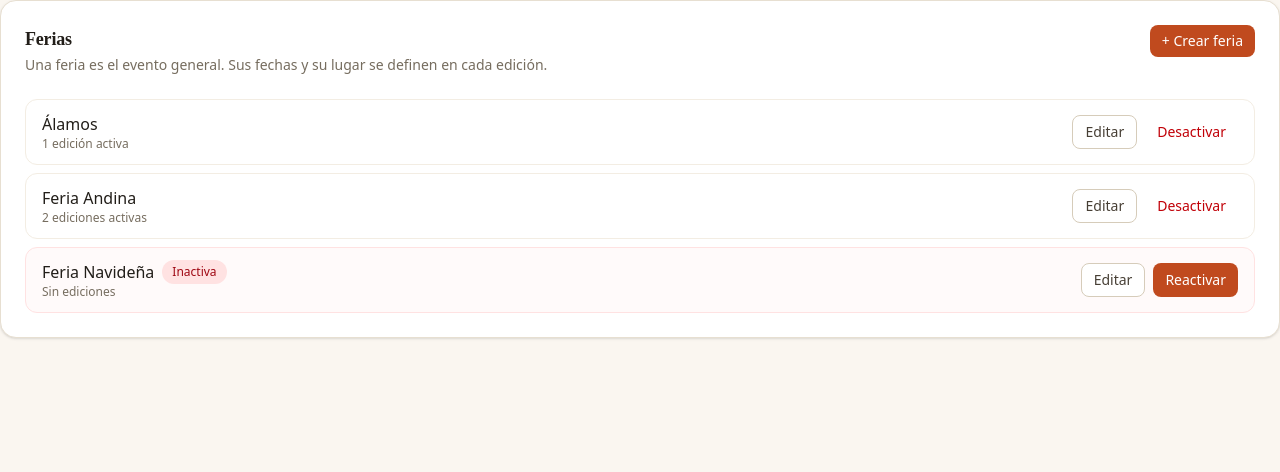
Test: GestionFerias: crear › el botón abre y cierra el formulario
Click the button "+ Crear feria" at (1202, 41), box [1150, 25, 1255, 57]
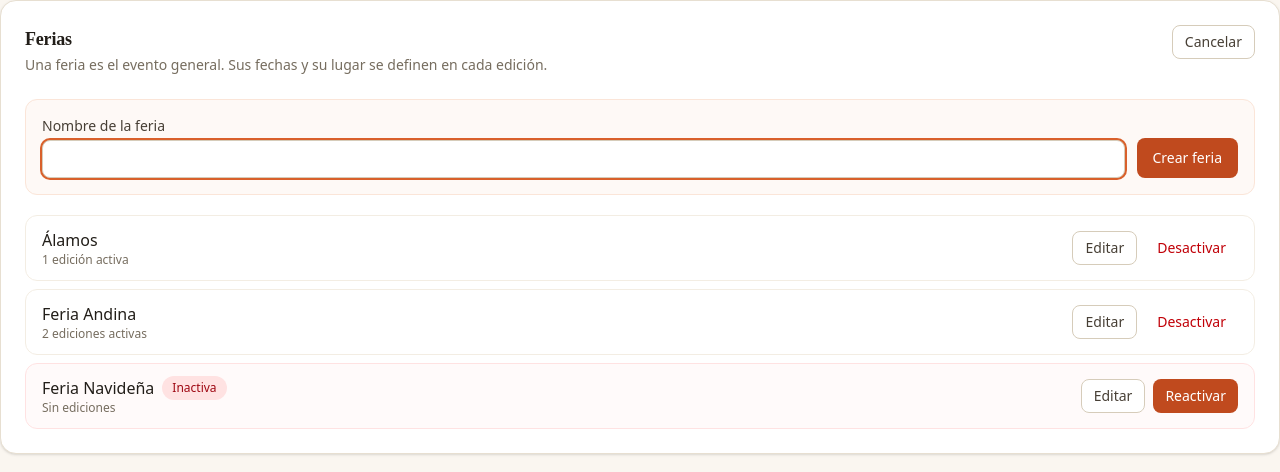
Expected: the field labelled "Nombre de la feria" is shown, [42, 140, 1124, 178]
Click the button "Cancelar" at (1213, 42), box [1172, 25, 1255, 59]
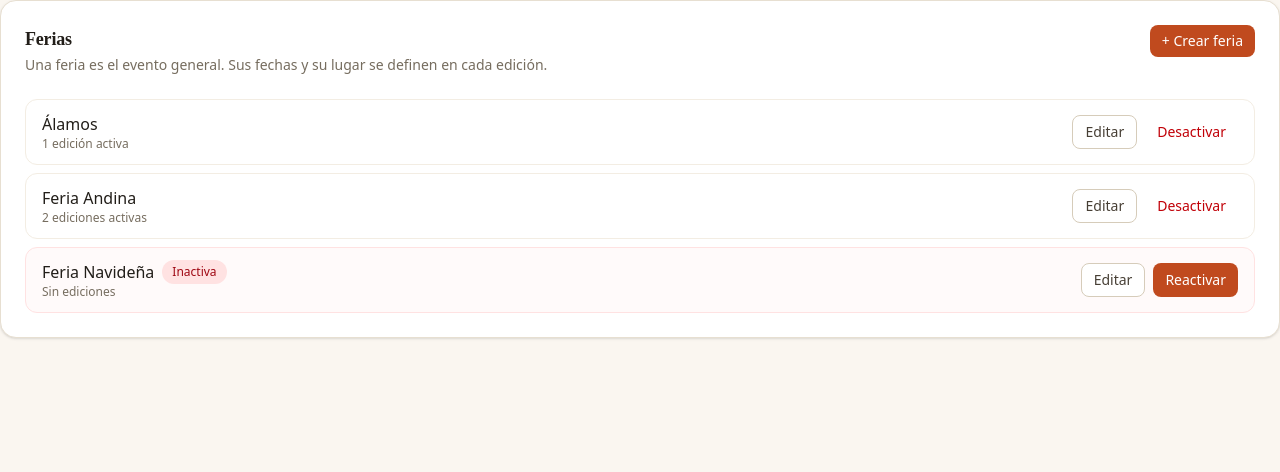
Expected: the label labelled "Nombre de la feria" is gone
